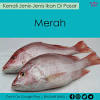Ikan Kerisi: (14, 52, 100, 93)
